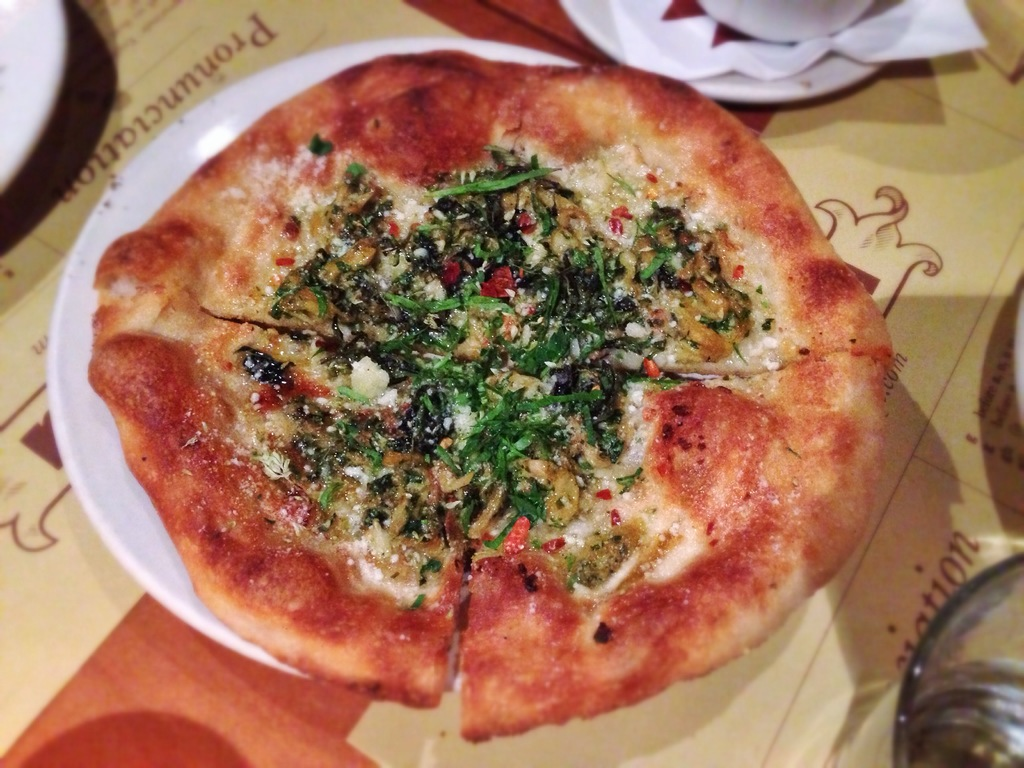Pizza: (106, 31, 917, 757)
